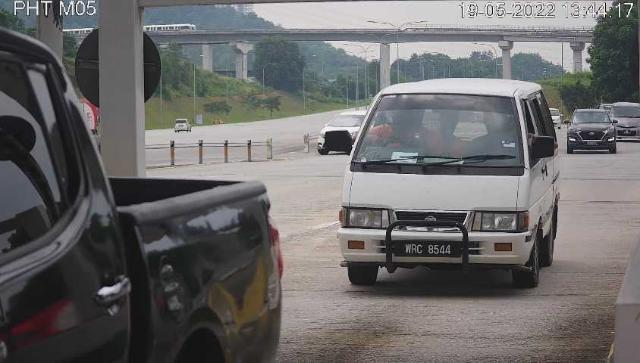License_Plate: (394, 240, 465, 262)
van: (339, 80, 561, 291)
